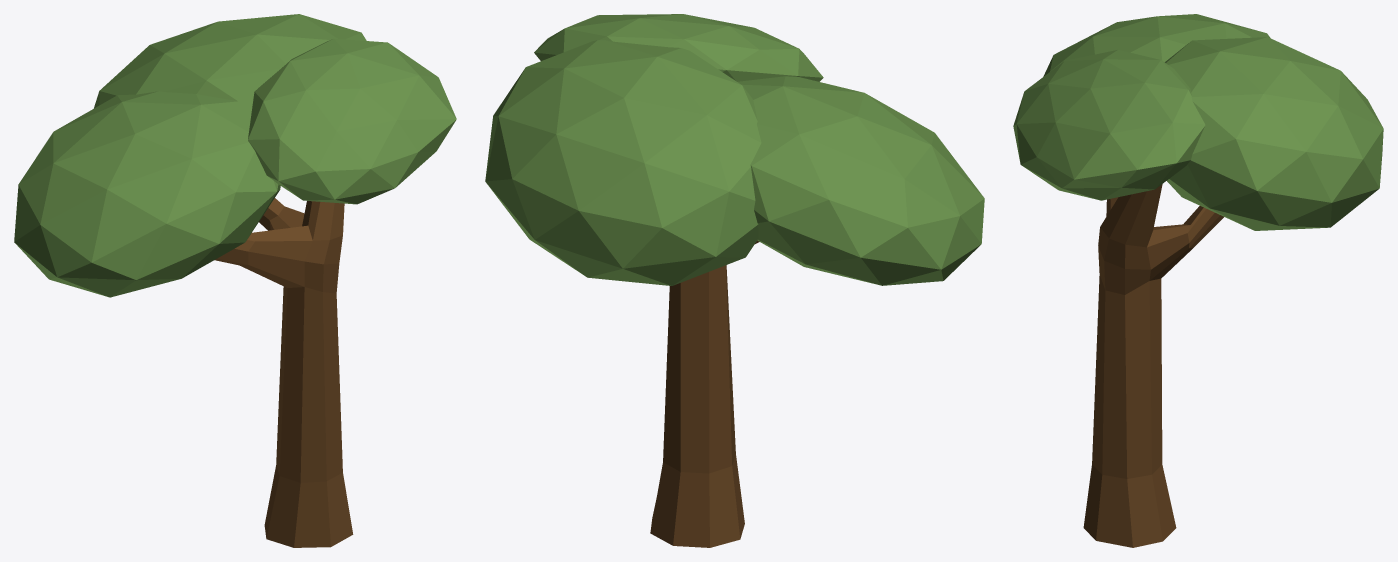
File: TreeBase1.fbx
3 renders of one model, left to right at view 1: azimuth 30°, elevation 25°; view 2: azimuth 150°, elevation 25°; view 3: azimuth 270°, elevation 25°, orthographic. The views are drawn at different scales.
Visible parts, largest first — view 1: Icosphere, Cylinder; view 2: Icosphere, Cylinder; view 3: Icosphere, Cylinder.
Part boxes in pixels (box(x1,y1,x2,y2)): Icosphere: box(14, 14, 456, 297); Cylinder: box(214, 198, 353, 547); Icosphere: box(485, 14, 984, 285); Cylinder: box(650, 240, 759, 547); Icosphere: box(1013, 14, 1383, 230); Cylinder: box(1083, 184, 1223, 547).
Bounding box in the file's own units: 525 × 594 × 421.
